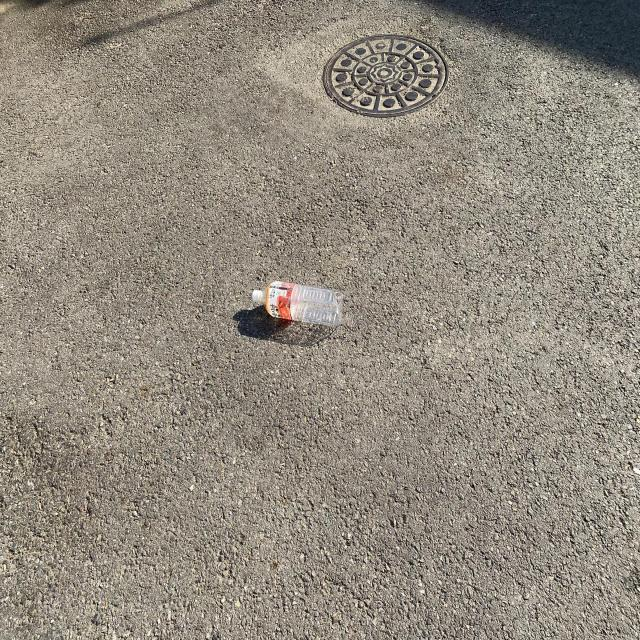plastic: (252, 280, 343, 326)
